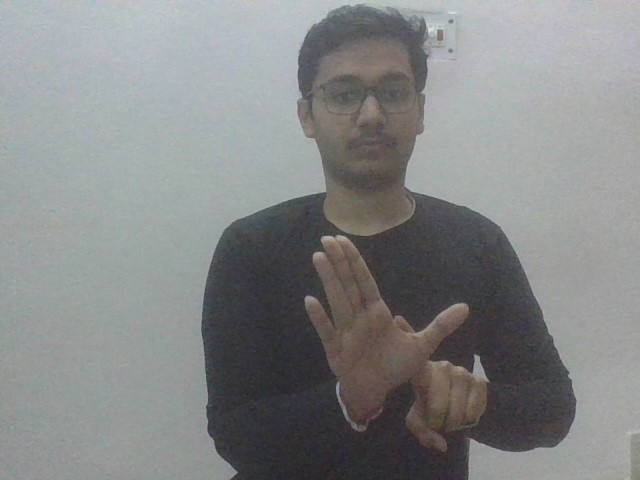Y: (303, 232, 487, 453)
